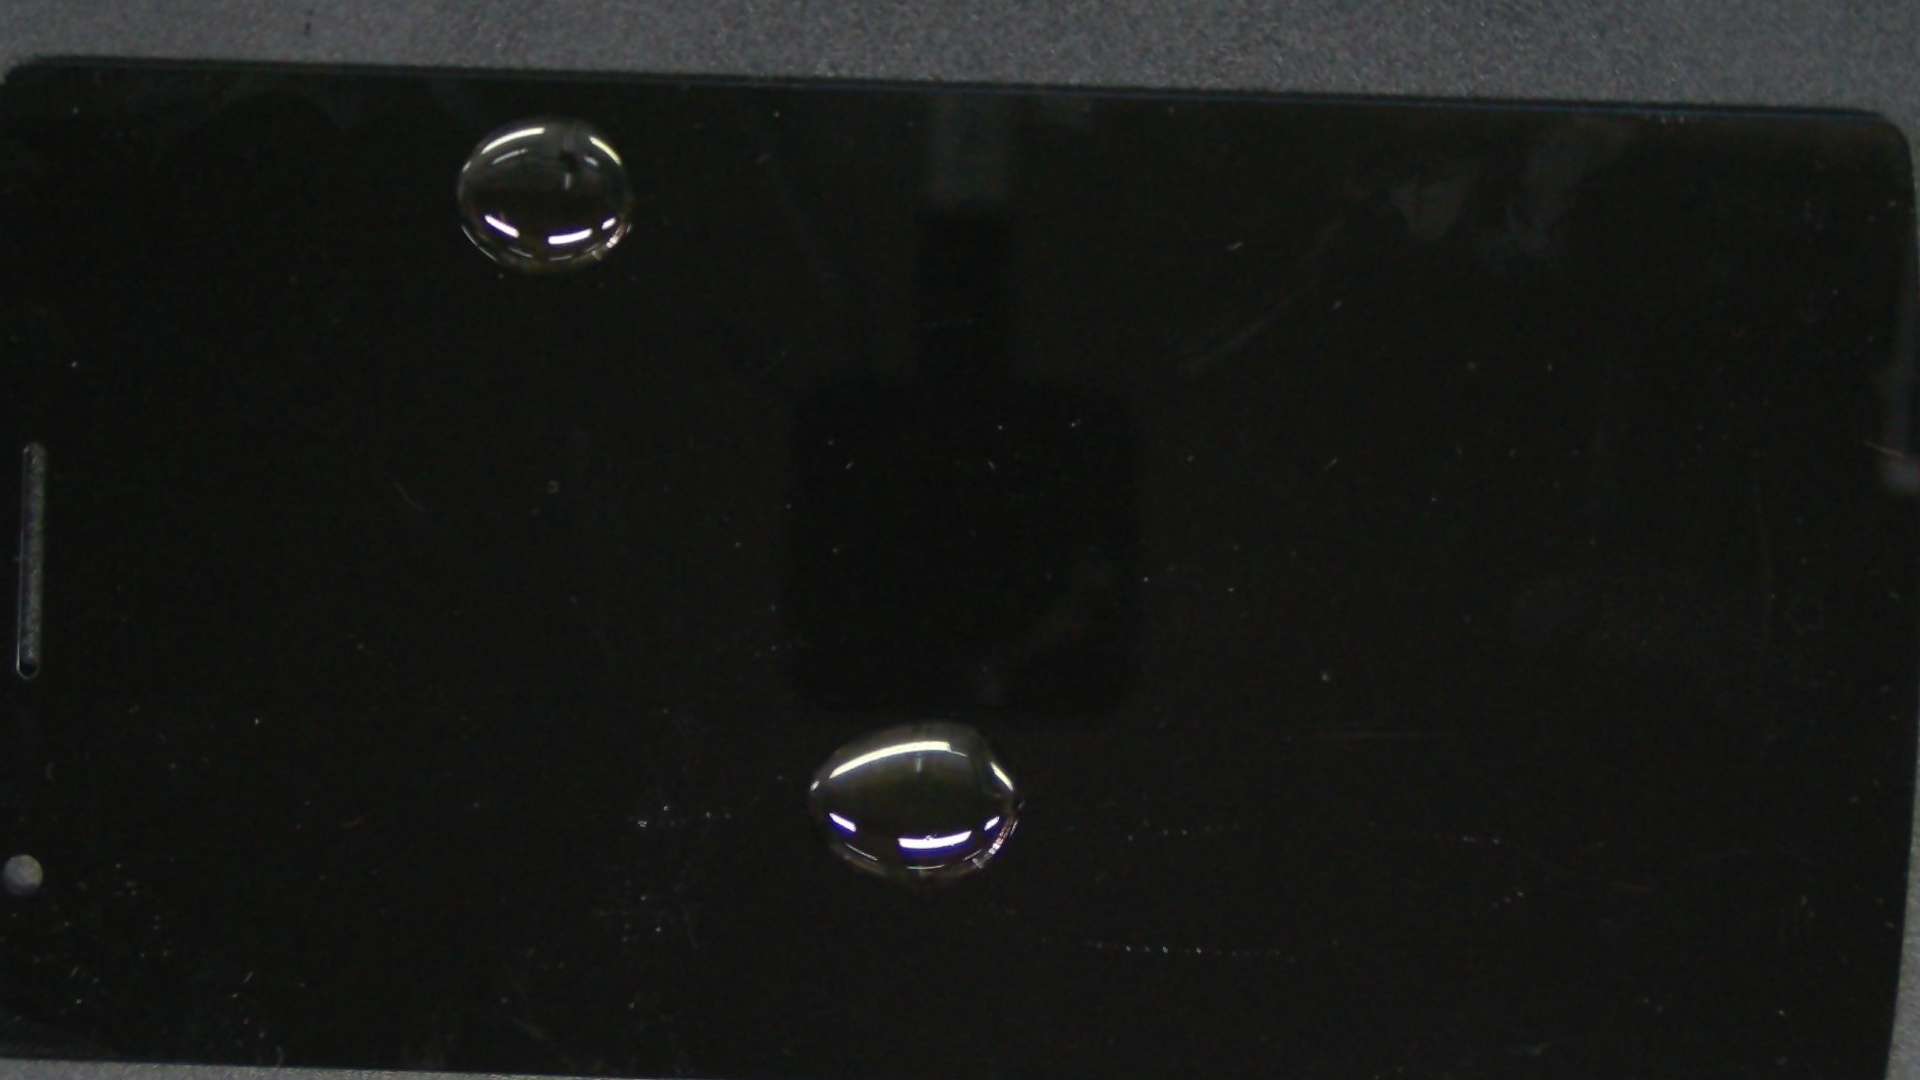oil: (406, 326, 1469, 1080), (229, 22, 885, 206)
